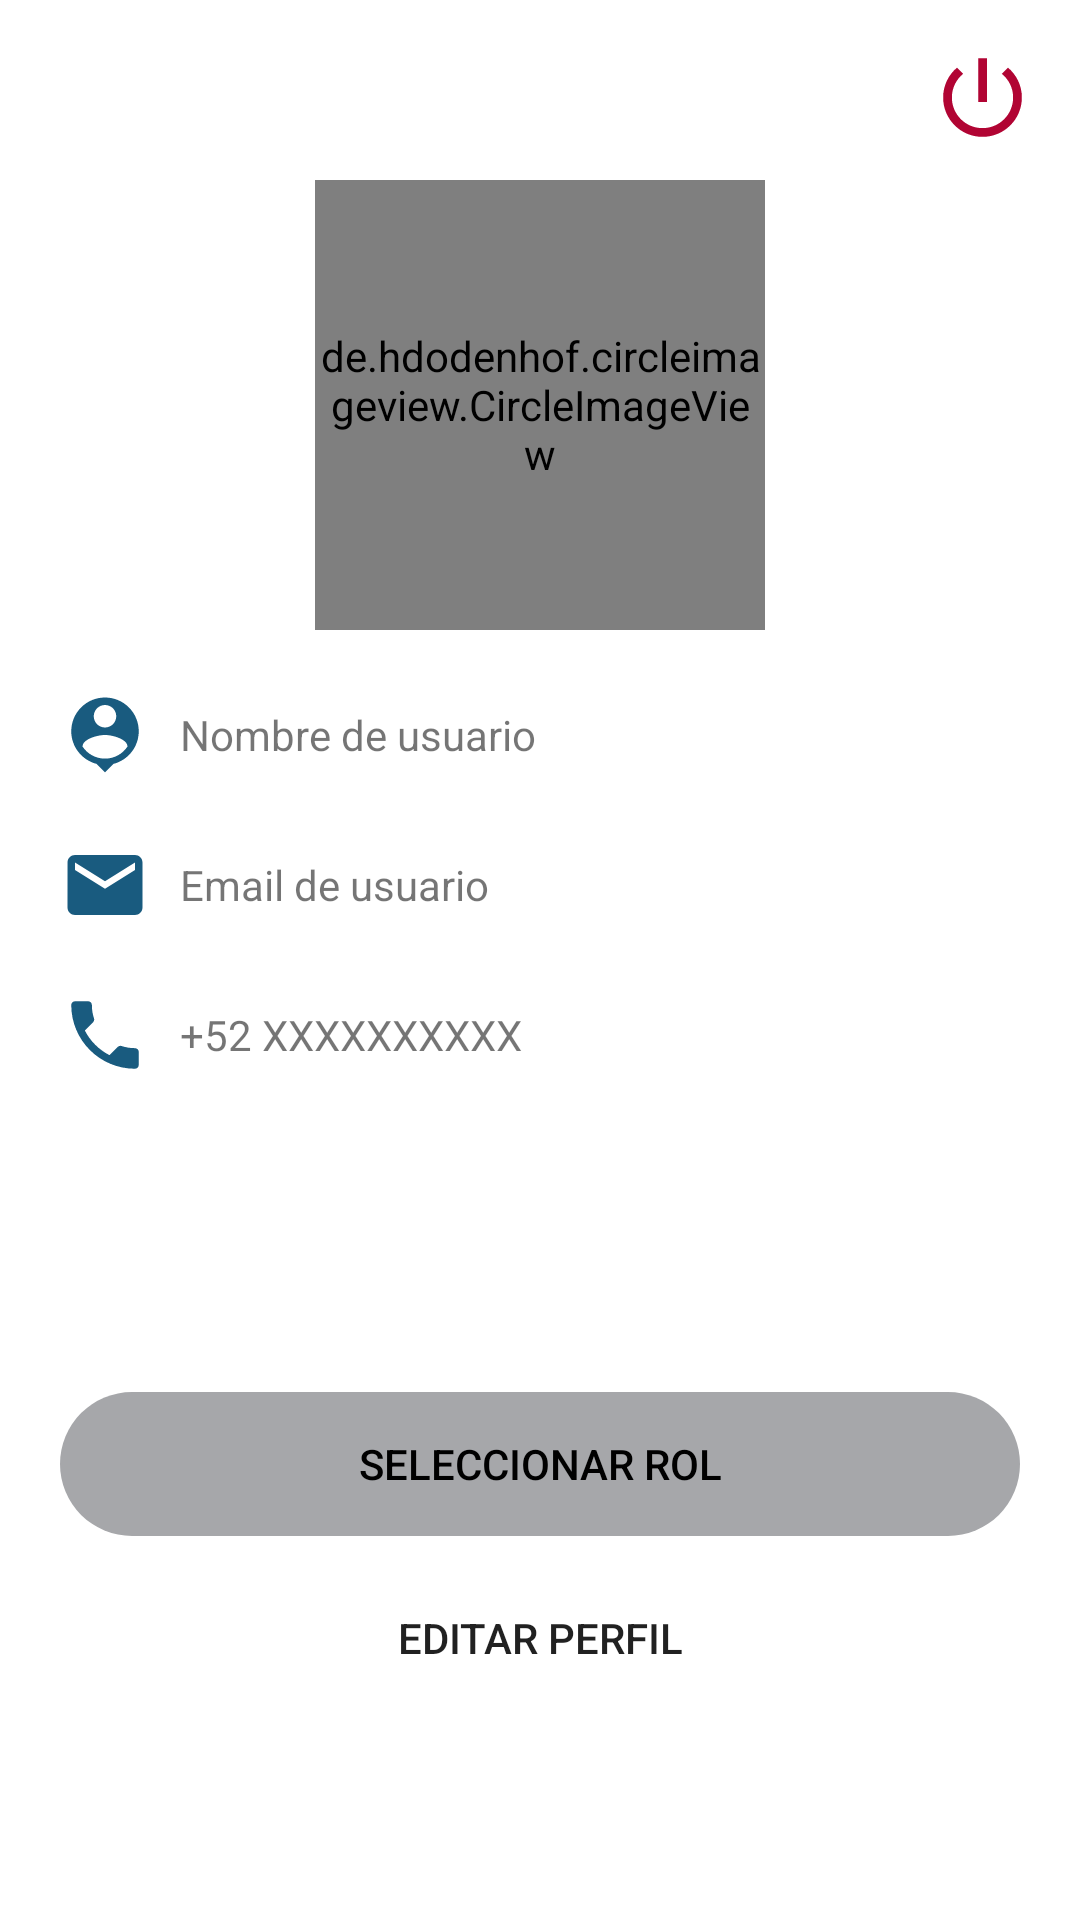

Where icons sit on this 1080 × 1920 app screen, as (x1, y1, x2, y2):
person pin: (71, 697, 139, 772)
phone: (71, 1001, 139, 1069)
power: (943, 58, 1022, 137)
